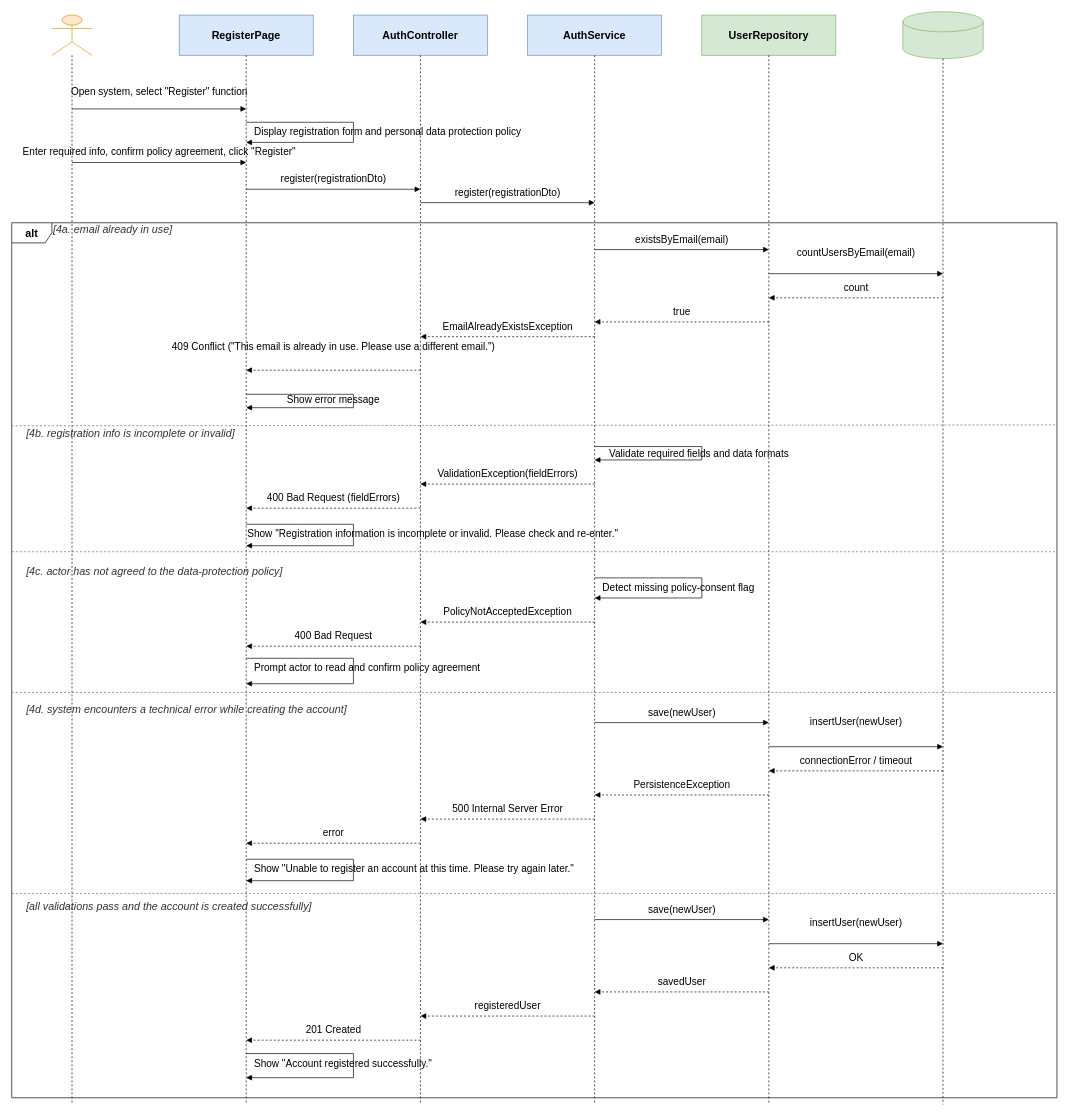
This 1069x1117 diagram has some shape labels left out. The centre of each missing label's shape, as x and y in pixels:
"PostgreSQL" goes at [942,35].
"User (Teacher)" goes at [71,34].
